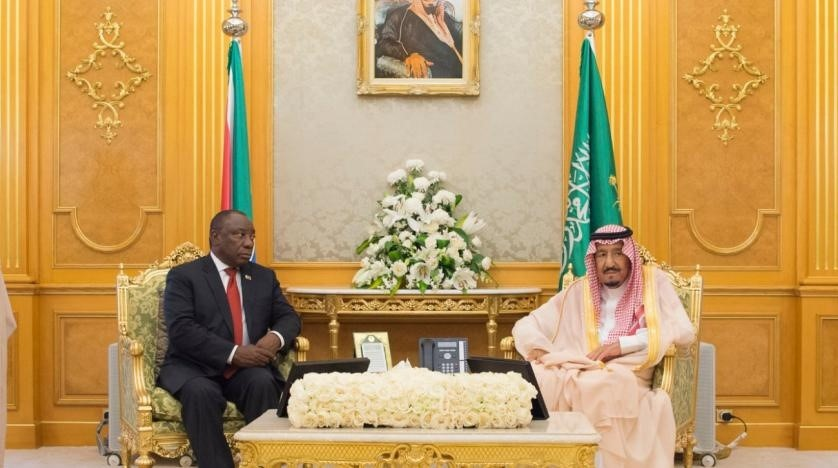face_no_mask: (586, 230, 635, 289), (208, 209, 257, 265)
